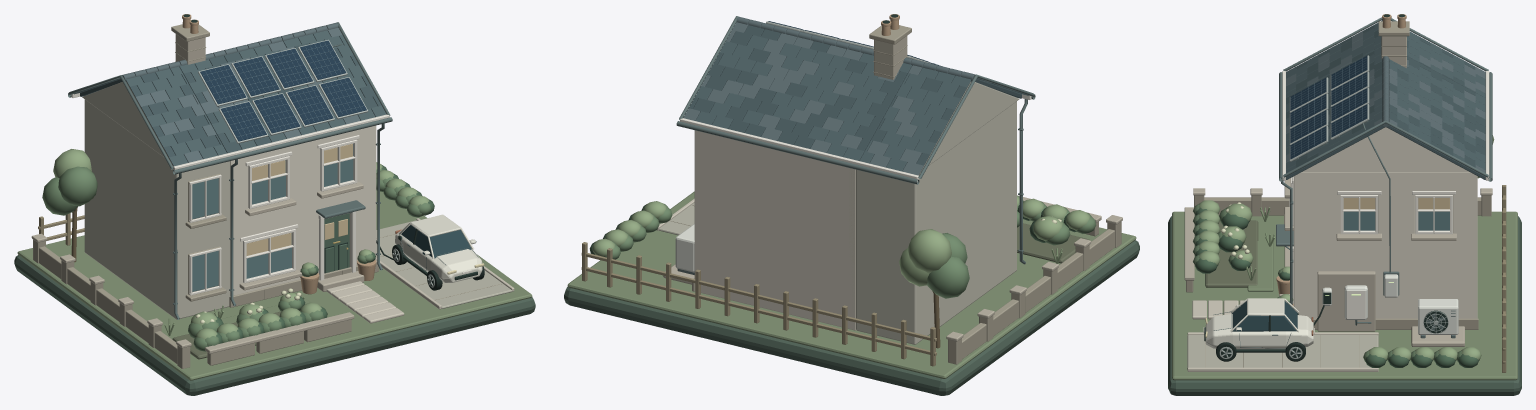
The model's file is wattwhen-home.glb.
The picture shows the model from 3 angles, left to right: view 1: azimuth 30°, elevation 25°; view 2: azimuth 150°, elevation 25°; view 3: azimuth 270°, elevation 25°; orthographic projection. The views are drawn at different scales.
Parts seen in each view (by area): view 1: Neighbour__Render_Neighbour_Stone, Landscape__Garden_Moss, Shell_Front__Render_Warm_Ivory, Landscape__Plinth_Forest_Stone, Landscape__Stone_Limestone, Landscape__Leaves_Sage, Shell_Front__Joinery_Chalk, Shell_Roof_Front__Slate_BlueGrey, Landscape__Leaves_Light_Sage, Landscape__Paving_Warm_Grey, EV_Vehicle__EV_Pearl_Ivory, Neighbour__Slate_BlueGrey (+35 smaller); view 2: Neighbour__Render_Neighbour_Stone, House_Fixed__Render_Warm_Ivory, Landscape__Garden_Moss, Landscape__Plinth_Forest_Stone, Shell_Roof_Back__Slate_BlueGrey, Shell_Roof_Back__Slate_Quiet_Variation, Shell_Roof_Back__Slate_Lighter_Variation, Landscape__Timber_Weathered_Oak, Landscape__Leaves_Light_Sage, Neighbour__Slate_BlueGrey, Landscape__Stone_Limestone, Landscape__Leaves_Sage (+12 smaller); view 3: Shell_Right__Render_Warm_Ivory, Landscape__Garden_Moss, Landscape__Plinth_Forest_Stone, Landscape__Paving_Warm_Grey, House_Fixed__Stone_Limestone_Light, Shell_Right__Render_Warm_Ivory.001, Shell_Roof_Back__Slate_BlueGrey, EV_Vehicle__EV_Pearl_Ivory, Landscape__Leaves_Light_Sage, Neighbour__Slate_BlueGrey, Shell_Roof_Back__Slate_Quiet_Variation, Landscape__Leaves_Forest (+43 smaller).
Boxes of the visible parts, left/top/right/bottom form: Neighbour__Render_Neighbour_Stone: left=82, top=81, right=230, bottom=319; Landscape__Garden_Moss: left=17, top=190, right=532, bottom=380; Shell_Front__Render_Warm_Ivory: left=230, top=125, right=376, bottom=295; Landscape__Plinth_Forest_Stone: left=14, top=255, right=535, bottom=395; Landscape__Stone_Limestone: left=33, top=234, right=501, bottom=368; Landscape__Leaves_Sage: left=42, top=166, right=431, bottom=351; Shell_Front__Joinery_Chalk: left=240, top=135, right=359, bottom=283; Shell_Roof_Front__Slate_BlueGrey: left=179, top=30, right=386, bottom=149; Landscape__Leaves_Light_Sage: left=53, top=149, right=429, bottom=339; Landscape__Paving_Warm_Grey: left=376, top=220, right=512, bottom=308; EV_Vehicle__EV_Pearl_Ivory: left=395, top=214, right=482, bottom=282; Neighbour__Slate_BlueGrey: left=84, top=66, right=226, bottom=166; Neighbour__Render_Neighbour_Stone: left=856, top=82, right=1019, bottom=344; House_Fixed__Render_Warm_Ivory: left=695, top=130, right=854, bottom=329; Landscape__Garden_Moss: left=567, top=191, right=1136, bottom=378; Landscape__Plinth_Forest_Stone: left=564, top=240, right=1139, bottom=395; Shell_Roof_Back__Slate_BlueGrey: left=695, top=27, right=911, bottom=160; Shell_Roof_Back__Slate_Quiet_Variation: left=689, top=25, right=907, bottom=150; Shell_Roof_Back__Slate_Lighter_Variation: left=683, top=17, right=975, bottom=152; Landscape__Timber_Weathered_Oak: left=581, top=242, right=936, bottom=366; Landscape__Leaves_Light_Sage: left=592, top=195, right=1090, bottom=286; Neighbour__Slate_BlueGrey: left=860, top=67, right=1028, bottom=171; Landscape__Stone_Limestone: left=671, top=205, right=1121, bottom=364; Landscape__Leaves_Sage: left=605, top=196, right=1096, bottom=298; Shell_Right__Render_Warm_Ivory: left=1294, top=172, right=1477, bottom=318; Landscape__Garden_Moss: left=1172, top=211, right=1517, bottom=380; Landscape__Plinth_Forest_Stone: left=1168, top=216, right=1521, bottom=395; Landscape__Paving_Warm_Grey: left=1187, top=335, right=1378, bottom=369; House_Fixed__Stone_Limestone_Light: left=1317, top=36, right=1464, bottom=346; Shell_Right__Render_Warm_Ivory.001: left=1301, top=127, right=1470, bottom=172; Shell_Roof_Back__Slate_BlueGrey: left=1387, top=59, right=1485, bottom=179; EV_Vehicle__EV_Pearl_Ivory: left=1205, top=298, right=1313, bottom=349; Landscape__Leaves_Light_Sage: left=1198, top=135, right=1494, bottom=360; Neighbour__Slate_BlueGrey: left=1286, top=21, right=1485, bottom=97; Shell_Roof_Back__Slate_Quiet_Variation: left=1389, top=56, right=1485, bottom=167; Landscape__Leaves_Forest: left=1195, top=207, right=1478, bottom=367.
Bounding box in the file's own units: 12.5 × 9.25 × 11.
